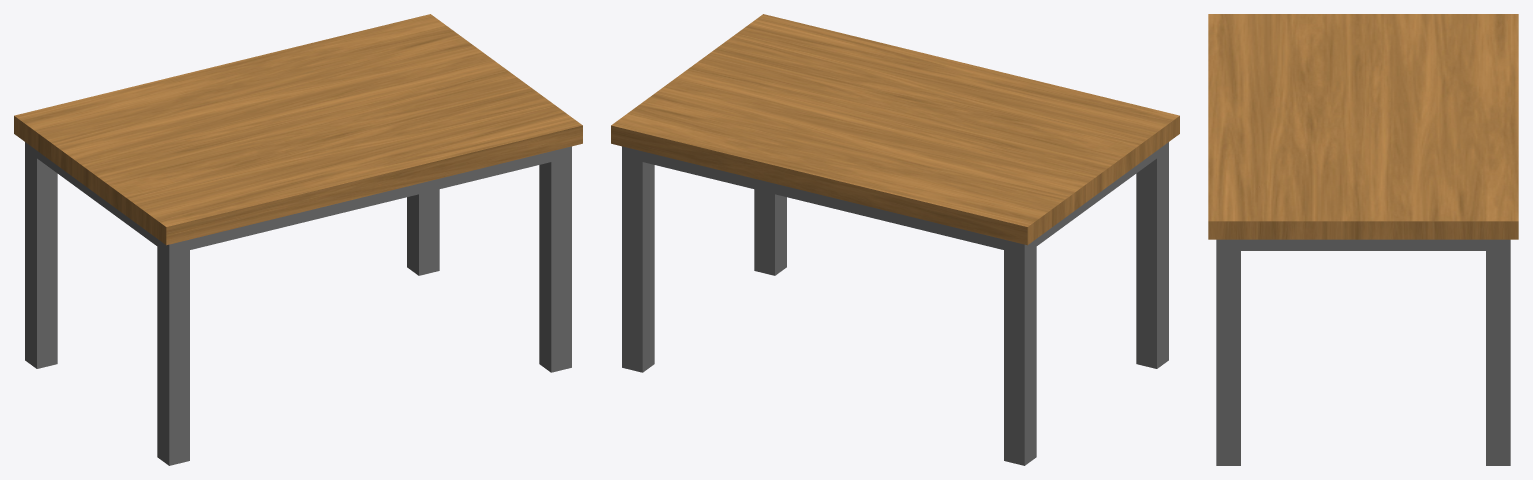
File: table.dae
3 views of the same model, side by side, from view 1: azimuth 30°, elevation 25°; view 2: azimuth 150°, elevation 25°; view 3: azimuth 270°, elevation 25° (orthographic).
Visible parts, largest first — view 1: table; view 2: table; view 3: table.
Part boxes in pixels (left/top/right/bottom): table: left=14, top=14, right=582, bottom=465; table: left=611, top=14, right=1179, bottom=465; table: left=1208, top=14, right=1518, bottom=465.
Size of what is drawn, in the model's own units: 0.6 by 0.38 by 0.335.
Materials: 2 (1 with a texture image).
